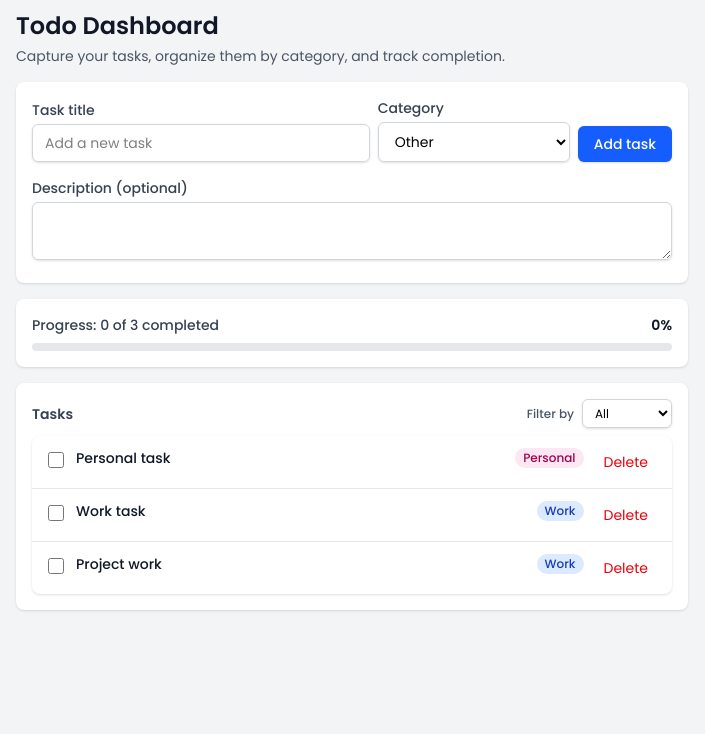
Test: TodoDashboard categories › filter All shows all tasks again
In the field labelled "Task title": (201, 143) x1=32 y1=124 x2=370 y2=162, type "Task A"
Select "Work" in the dropdown labelled "Category": (474, 142) x1=378 y1=122 x2=570 y2=162
Click the button "Add task": (625, 144) x1=578 y1=126 x2=672 y2=162
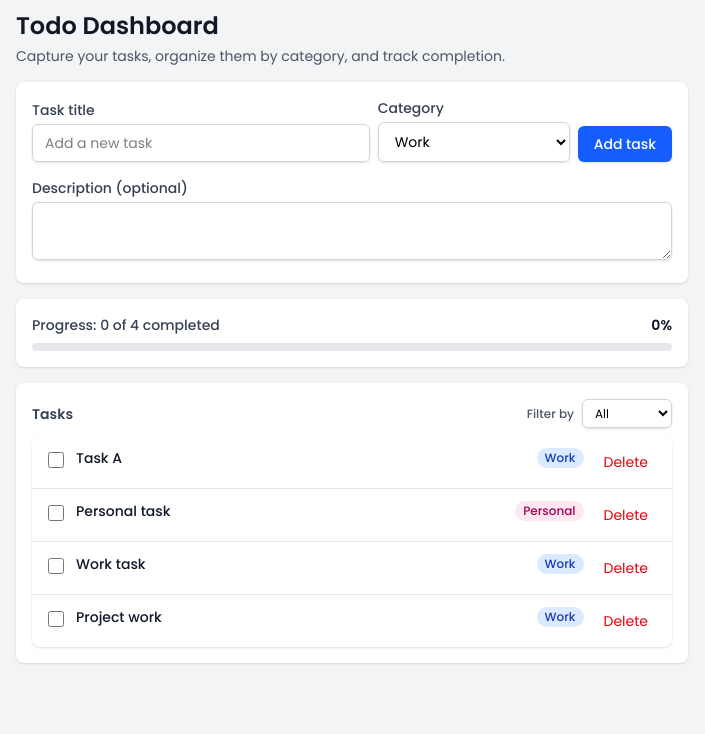
In the field labelled "Task title": (201, 143) x1=32 y1=124 x2=370 y2=162, type "Task B"
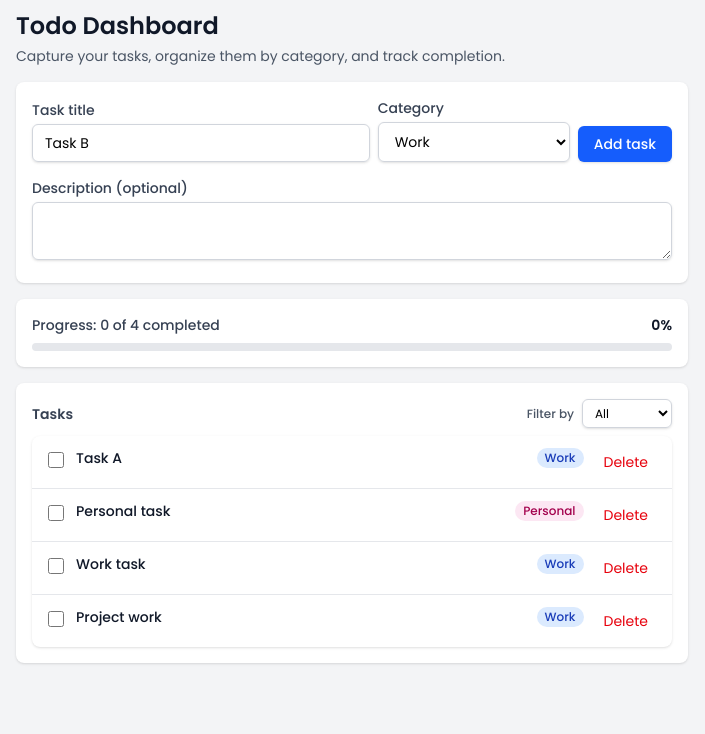
Select "Personal" in the dropdown labelled "Category": (474, 142) x1=378 y1=122 x2=570 y2=162
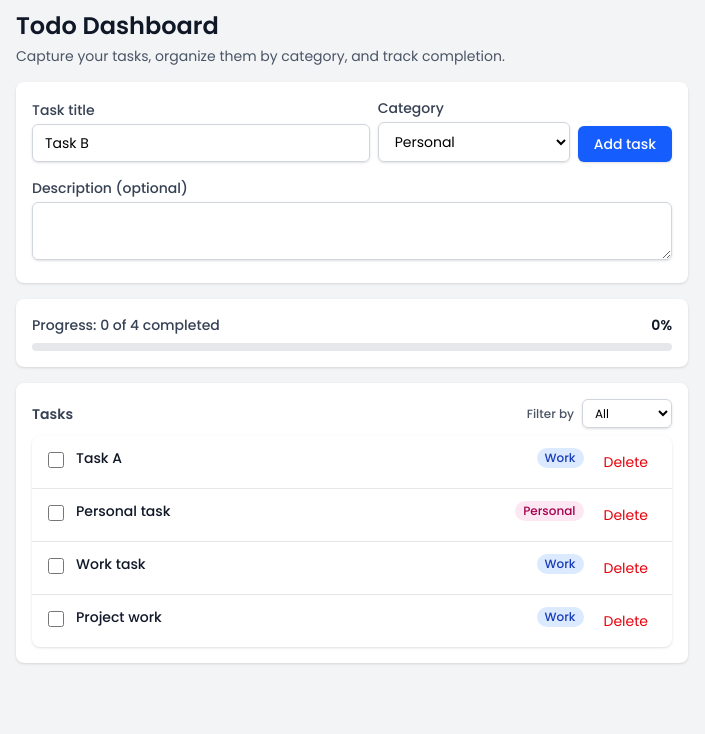
Click the button "Add task": (625, 144) x1=578 y1=126 x2=672 y2=162
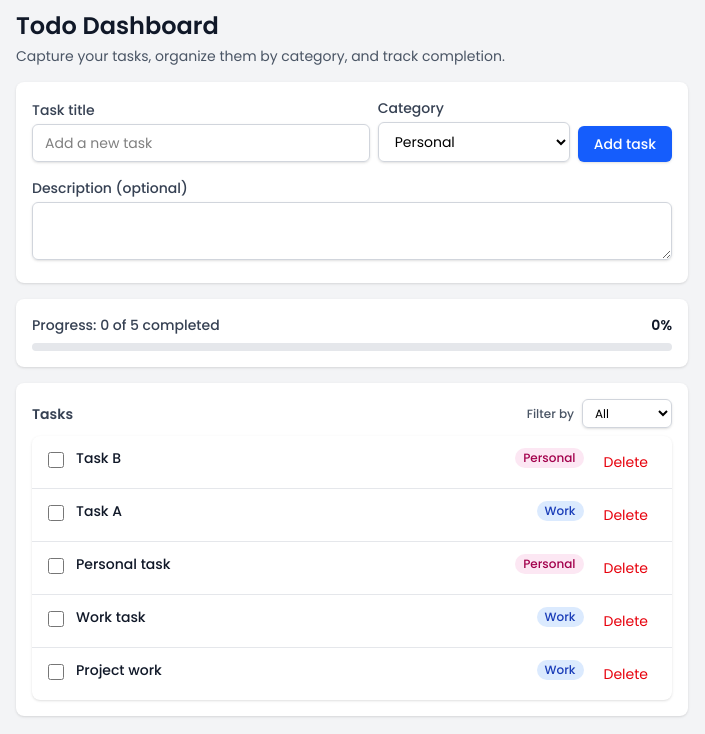
Select "Work" in the dropdown labelled "Filter by": (627, 414) x1=582 y1=399 x2=672 y2=428
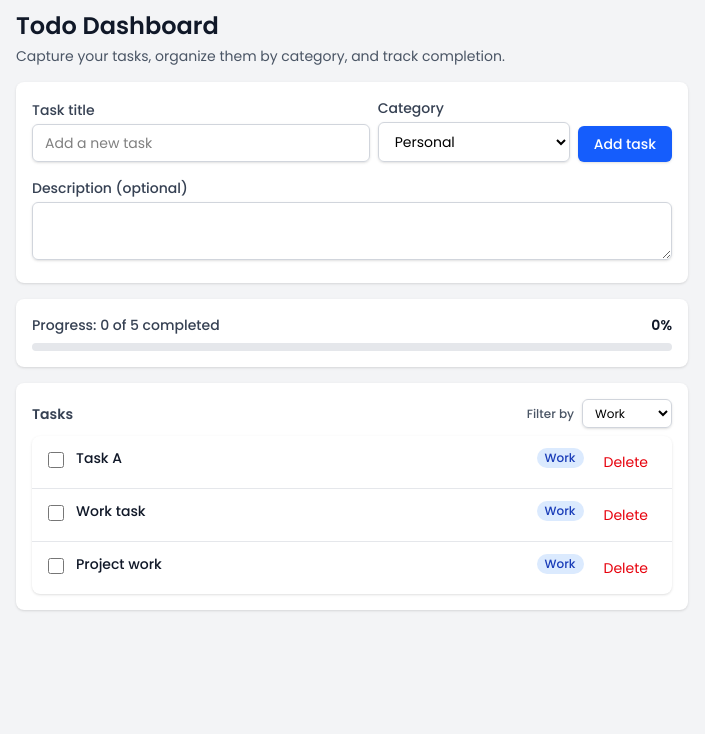
Select "All" in the dropdown labelled "Filter by": (627, 414) x1=582 y1=399 x2=672 y2=428
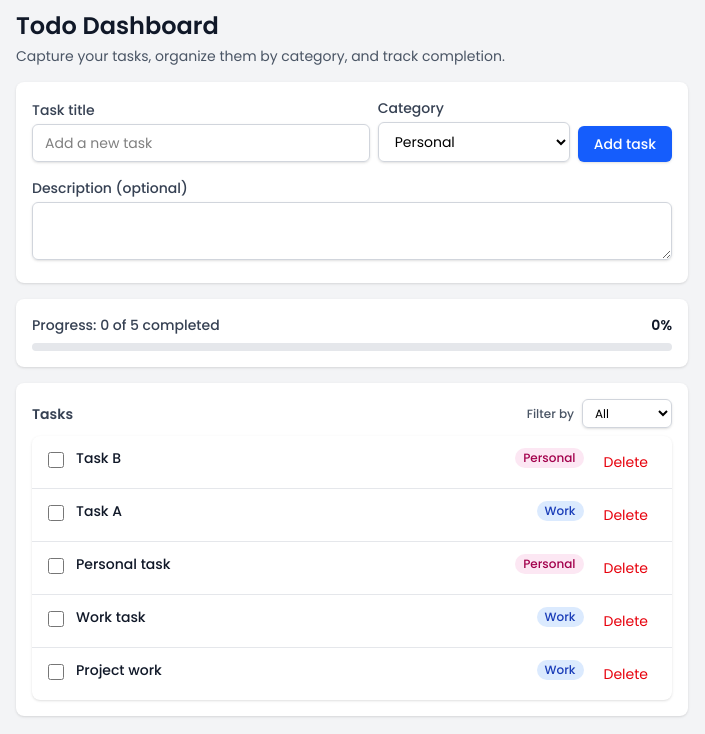
Check: the text "Task A" is shown, box x1=76 y1=501 x2=122 y2=521
Check: the text "Task B" is shown, box x1=76 y1=448 x2=121 y2=468
